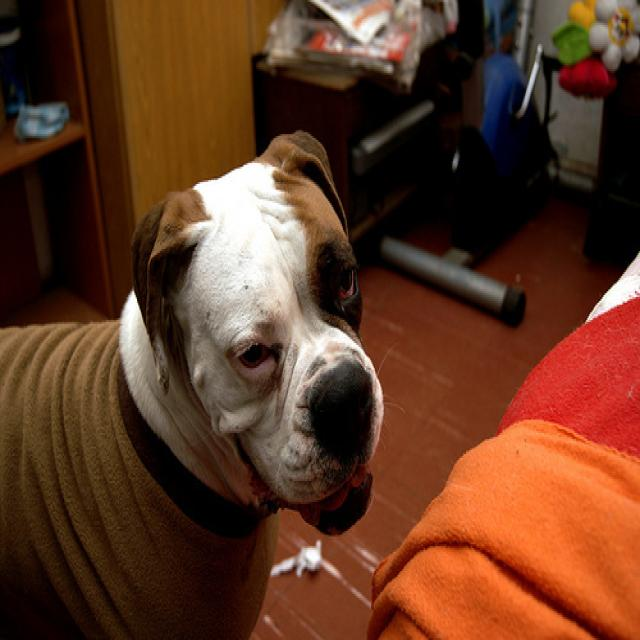dog-boxer: (1, 121, 389, 636)
